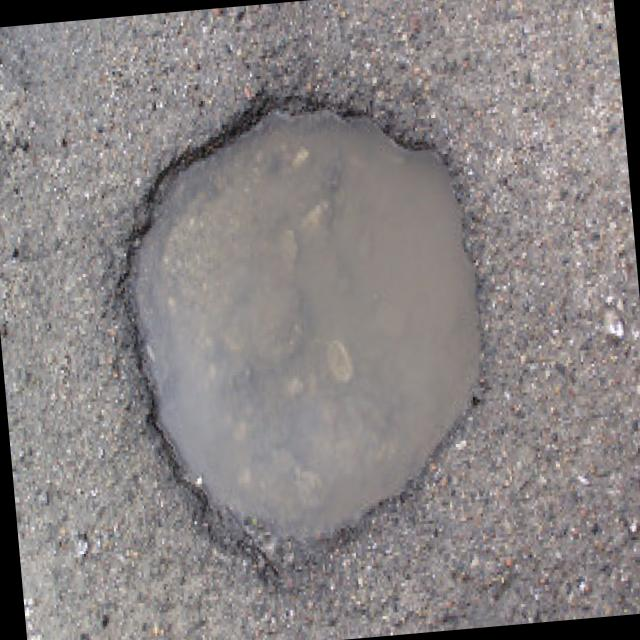Potholes: (80, 95, 542, 584)
